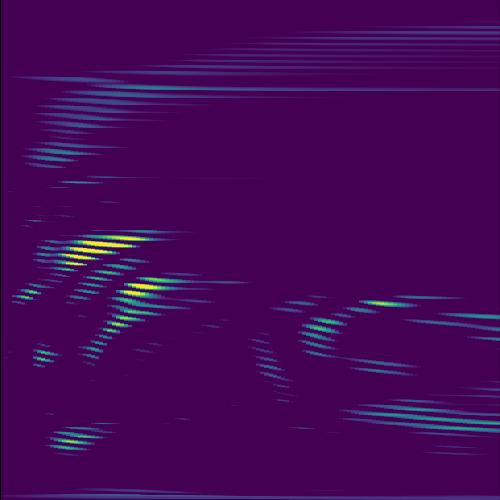semblance: (54, 233, 161, 269), (110, 276, 188, 305)
